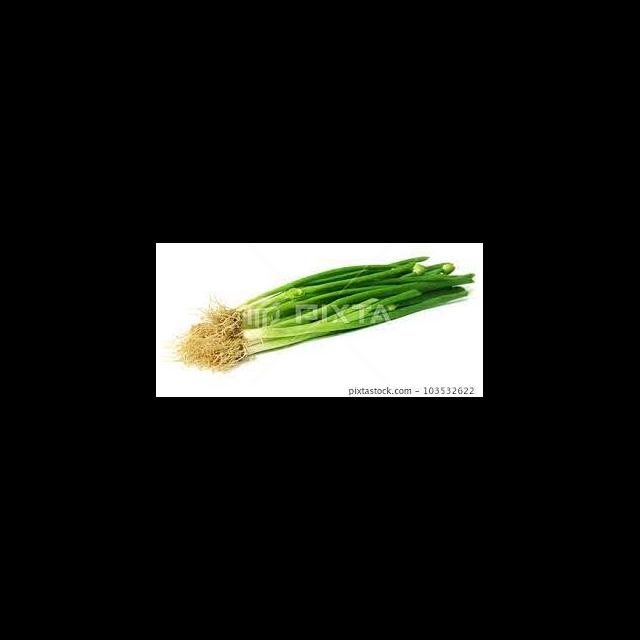green_onion: (184, 263, 468, 365)
